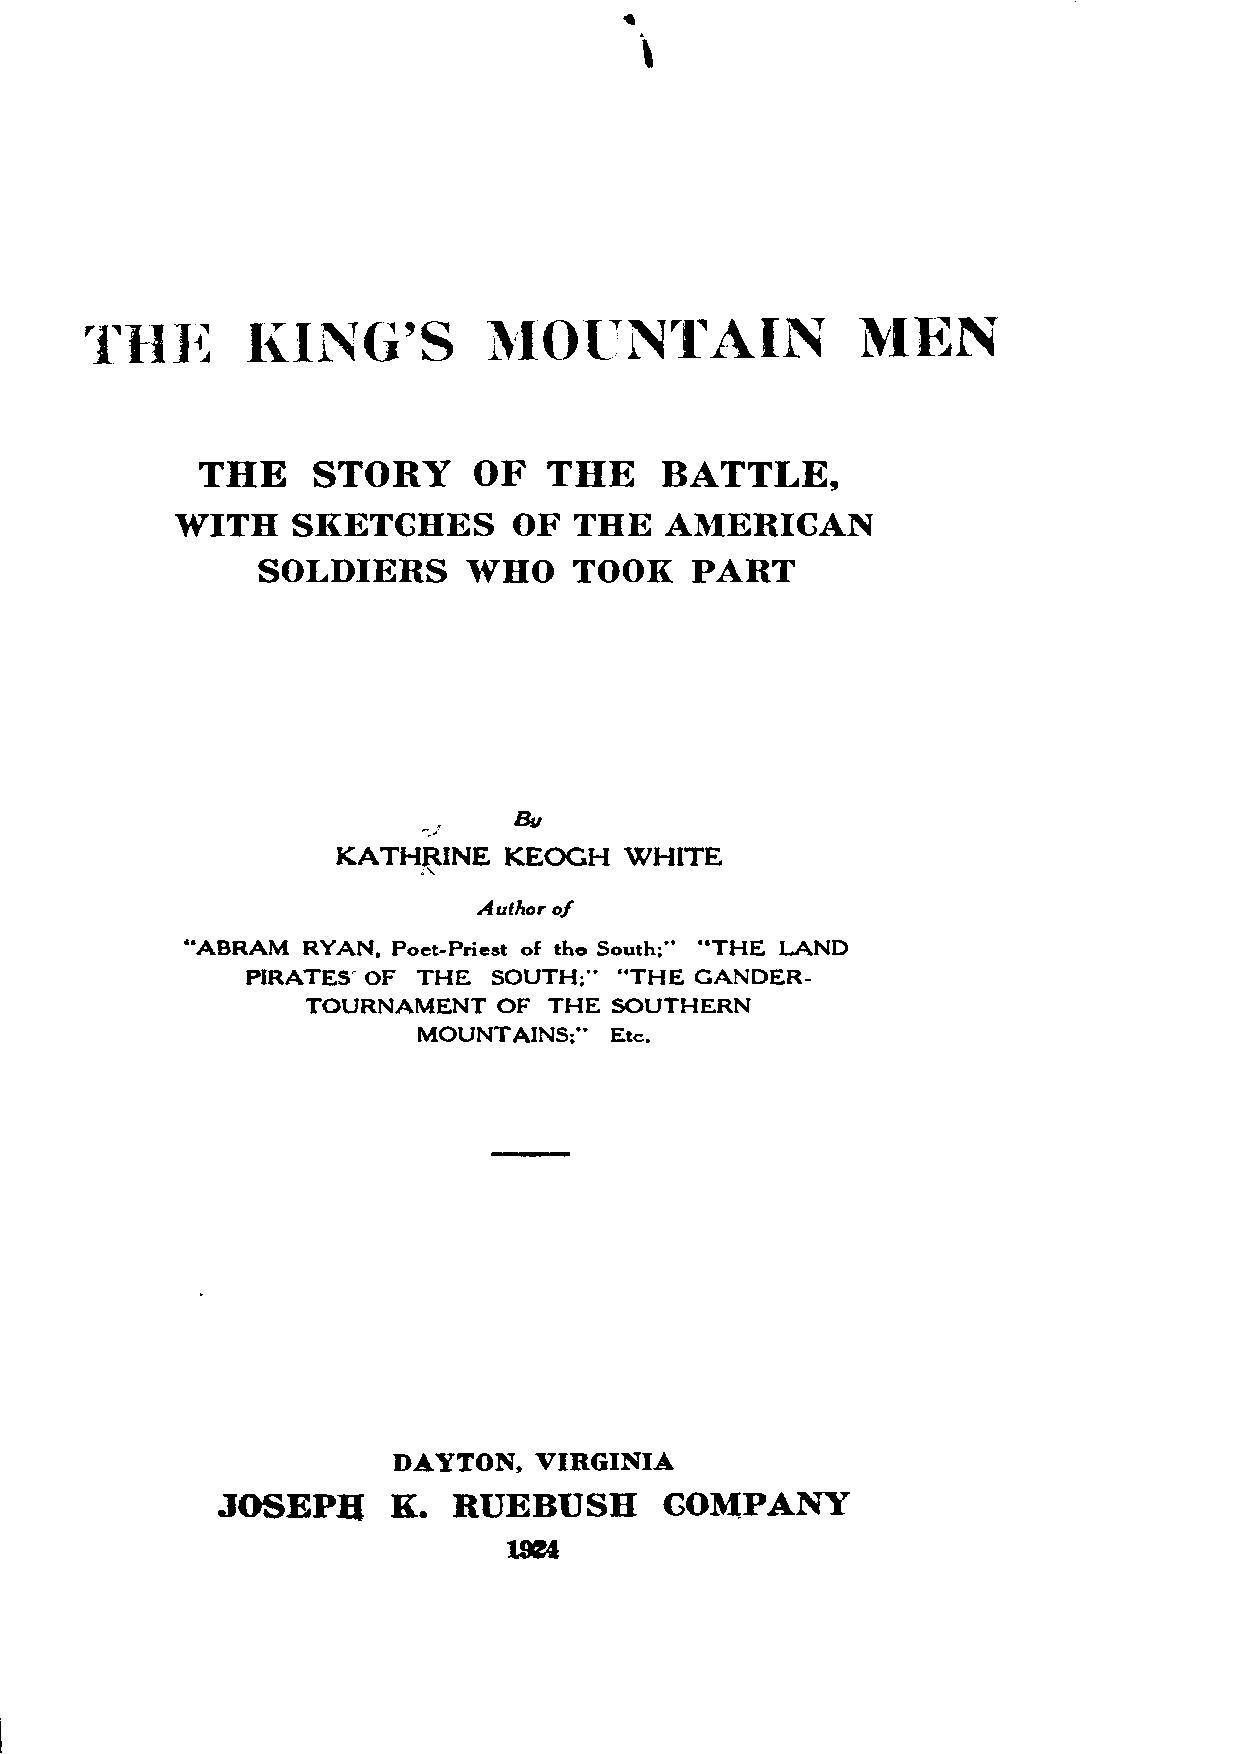author: (330, 807, 723, 870)
title: (81, 313, 1002, 368)
